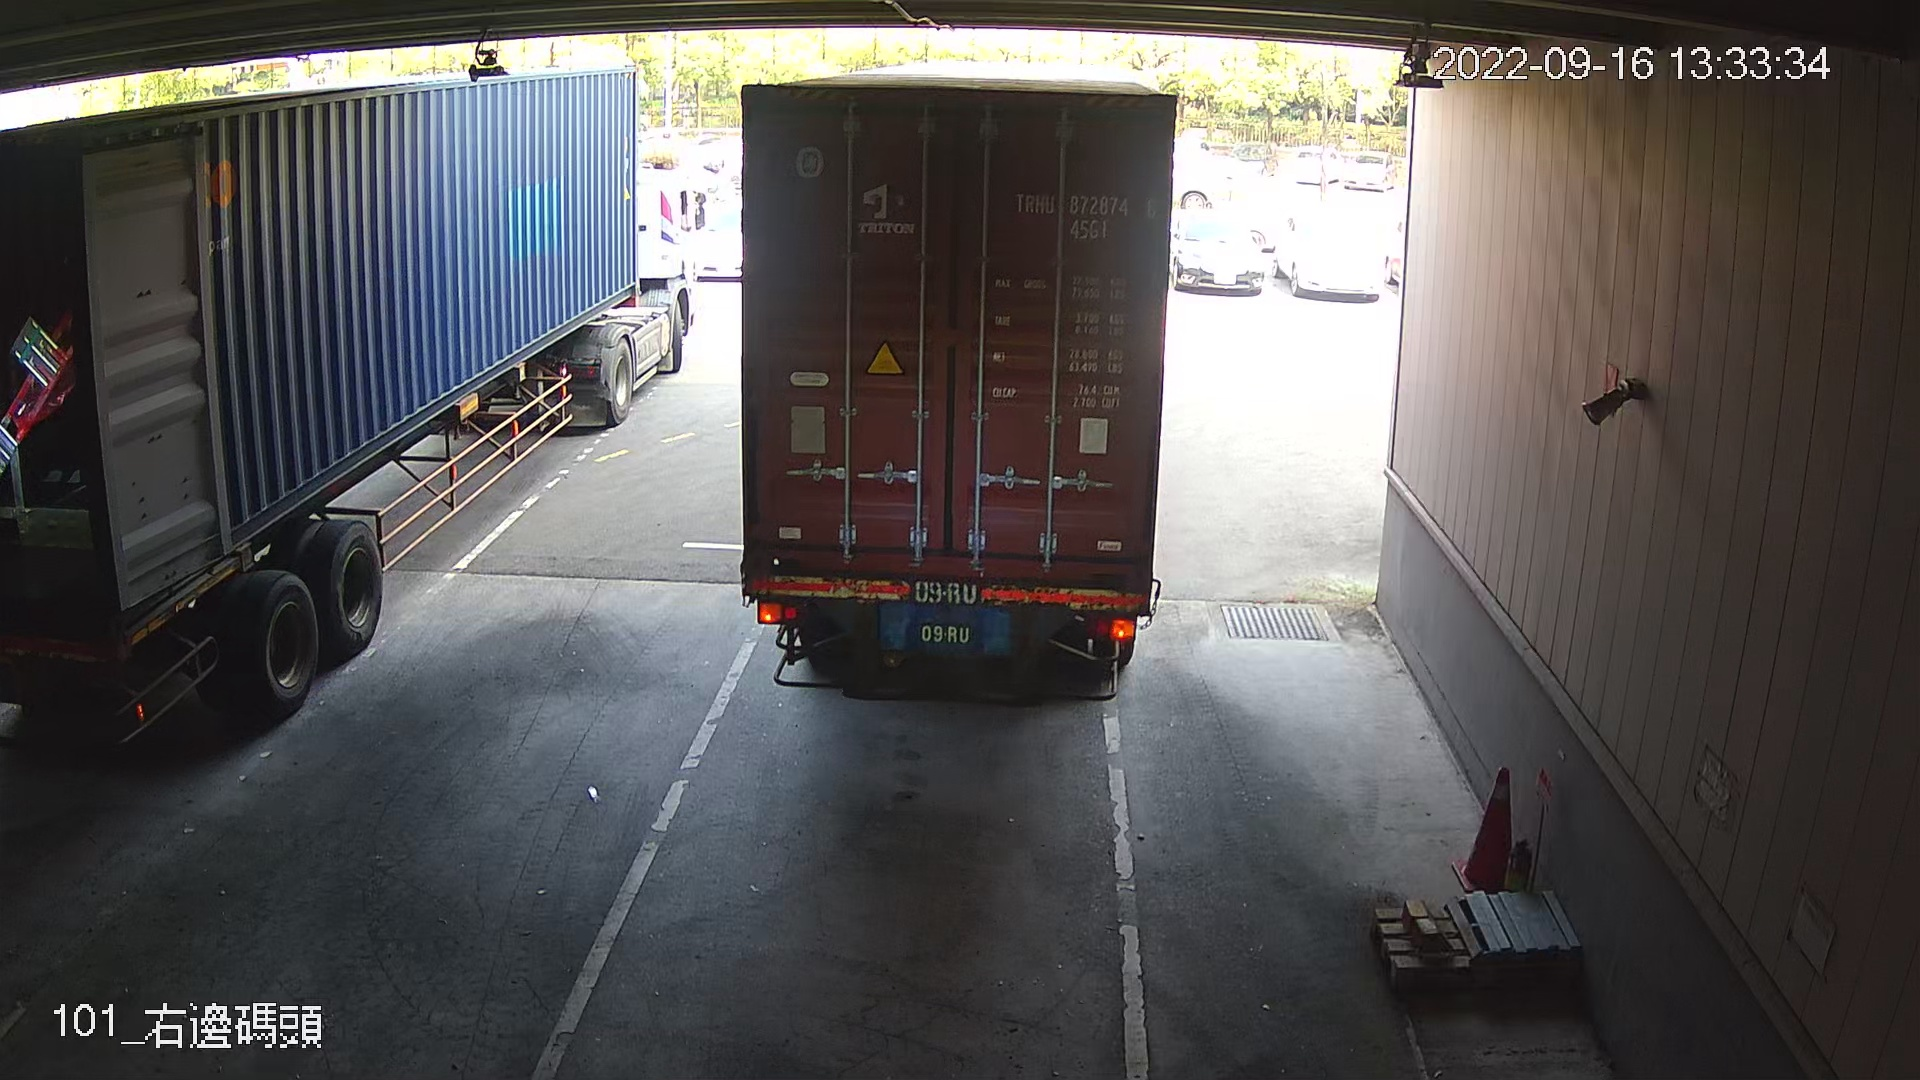container: (998, 181, 1164, 252)
